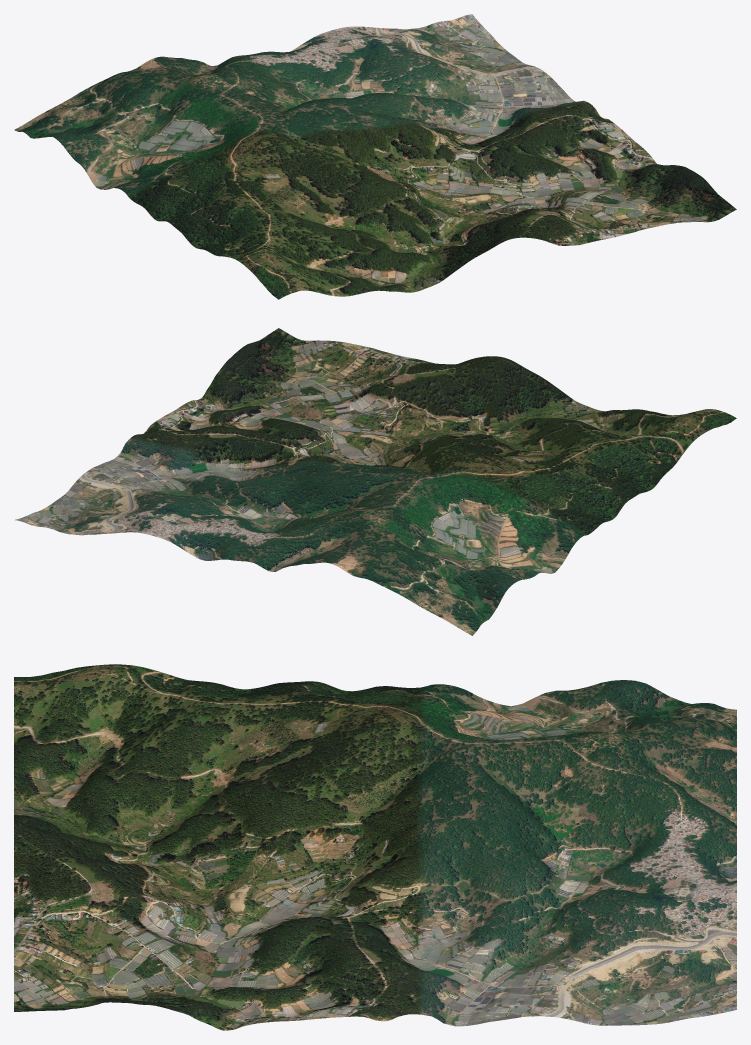
The model's file is terrain_real_T_W02_S01.glb.
3 views of the same model, one above another, from view 1: azimuth 30°, elevation 25°; view 2: azimuth 150°, elevation 25°; view 3: azimuth 270°, elevation 25° (orthographic). The views are drawn at different scales.
Visible parts, largest first — view 1: TerrainReal_T_W02_S01; view 2: TerrainReal_T_W02_S01; view 3: TerrainReal_T_W02_S01.
Boxes of the visible parts, bbox=[...] form: TerrainReal_T_W02_S01: bbox=[14, 14, 736, 299]; TerrainReal_T_W02_S01: bbox=[15, 328, 736, 635]; TerrainReal_T_W02_S01: bbox=[14, 664, 736, 1030].
Size of the model in its own units: 2000 by 266 by 2000.
1 material, 1 textured.
